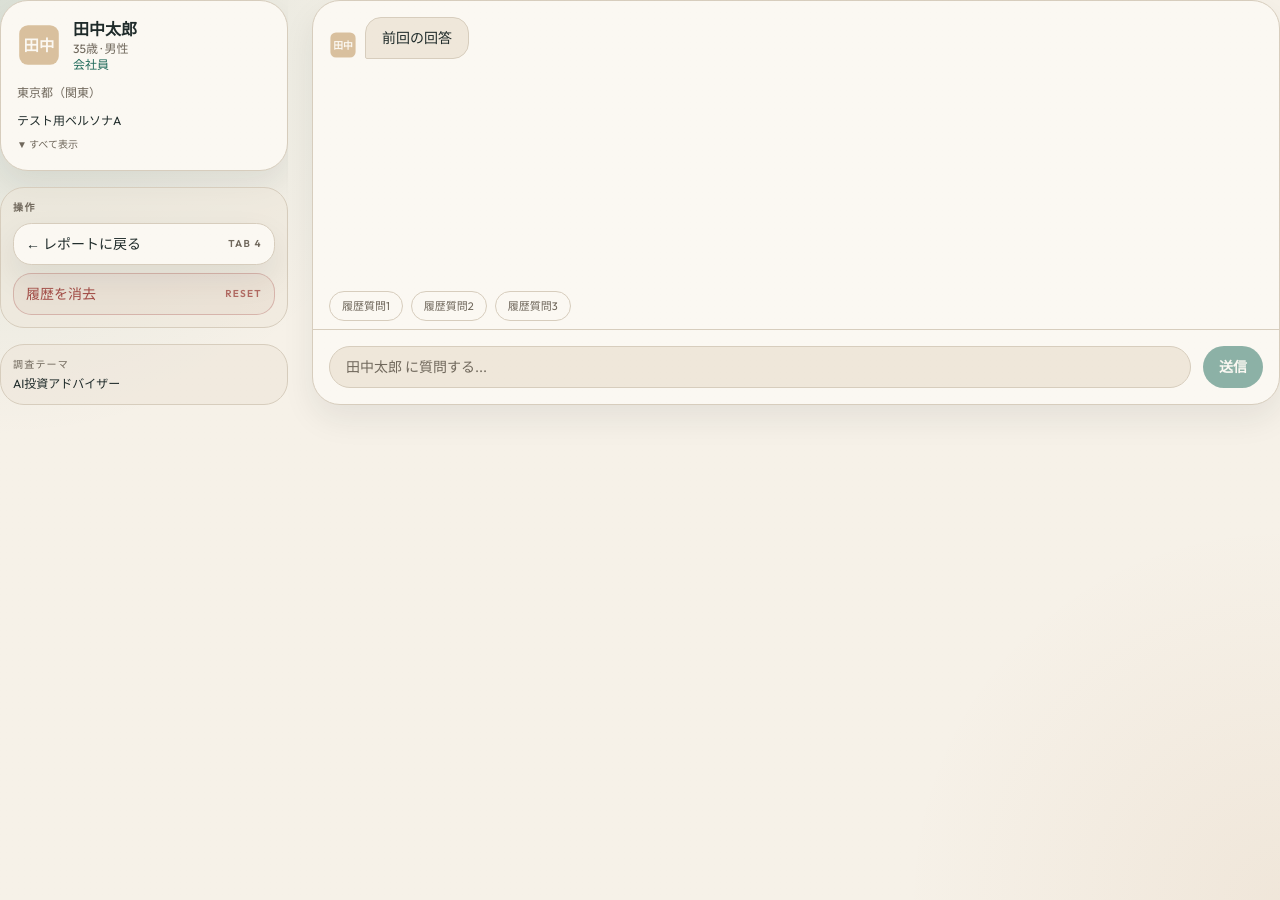
Test: FollowUpChat › clears follow-up history for the selected persona after confirmation
Expected: the button "履歴質問1" is shown, [329,290,403,321]
Expected: the text "前回の回答" is shown, [365,17,469,59]
Click the button "履歴を消去 RESET": (61, 294) [13,273,275,315]
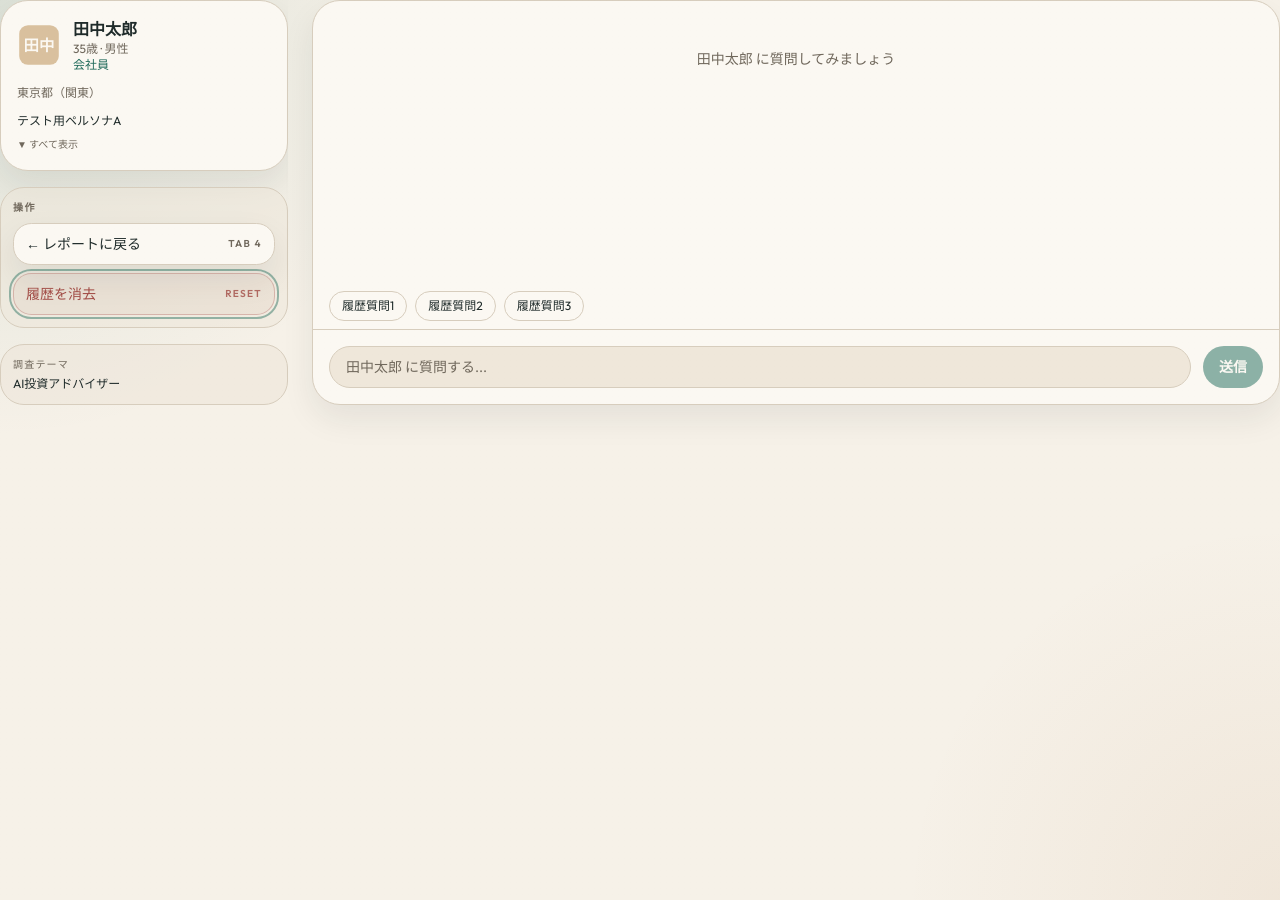
Expected: the button "履歴質問1" is shown, [329,291,407,321]
Expected: the text "前回の回答" is gone
